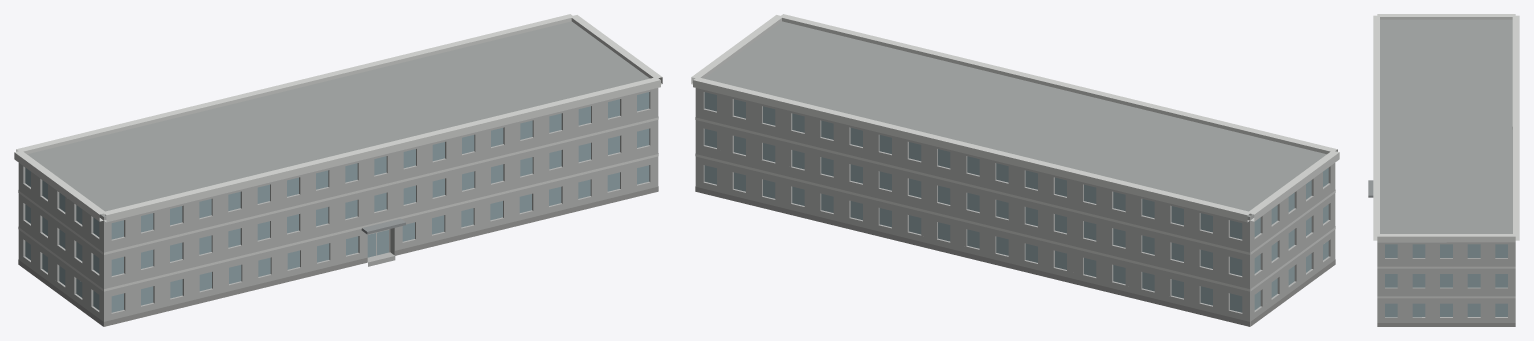
The picture shows the model from 3 angles, left to right: view 1: azimuth 30°, elevation 25°; view 2: azimuth 150°, elevation 25°; view 3: azimuth 270°, elevation 25°; orthographic projection. The views are drawn at different scales.
Parts seen in each view (by area): view 1: b115951774__wall, b115951774__roof, b115951774__trim, b115951774__glass, b115951774__base; view 2: b115951774__wall, b115951774__roof, b115951774__trim, b115951774__glass, b115951774__base; view 3: b115951774__roof, b115951774__wall, b115951774__trim, b115951774__glass, b115951774__base.
Part boxes in pixels (x1=…): b115951774__wall: x1=18, y1=88, x2=658, y2=326; b115951774__roof: x1=27, y1=21, x2=649, y2=216; b115951774__trim: x1=14, y1=14, x2=662, y2=291; b115951774__glass: x1=25, y1=92, x2=649, y2=312; b115951774__base: x1=18, y1=186, x2=658, y2=326; b115951774__wall: x1=695, y1=88, x2=1335, y2=326; b115951774__roof: x1=704, y1=21, x2=1326, y2=216; b115951774__trim: x1=691, y1=14, x2=1339, y2=291; b115951774__glass: x1=704, y1=92, x2=1328, y2=312; b115951774__base: x1=695, y1=186, x2=1335, y2=326; b115951774__roof: x1=1380, y1=19, x2=1512, y2=233; b115951774__wall: x1=1377, y1=242, x2=1515, y2=322; b115951774__trim: x1=1373, y1=14, x2=1519, y2=298; b115951774__glass: x1=1385, y1=244, x2=1507, y2=317; b115951774__base: x1=1377, y1=323, x2=1515, y2=326.
Bounding box in the file's own units: 58.01 × 11.55 × 16.66.
